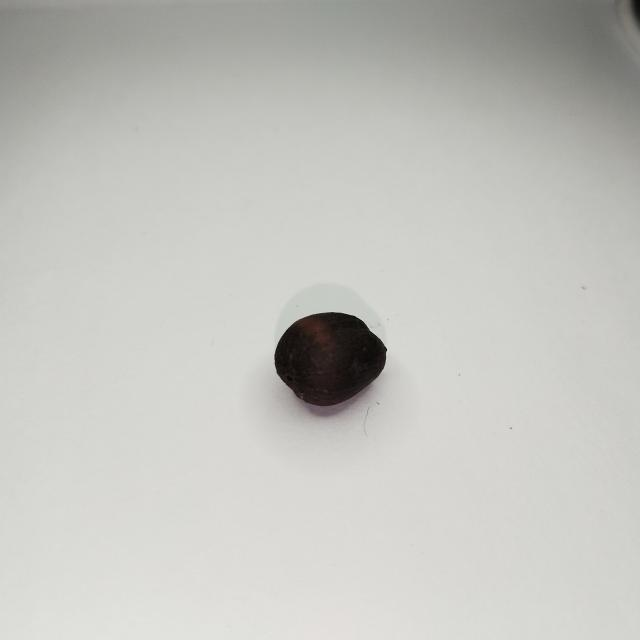Danado: (275, 312, 386, 406)
